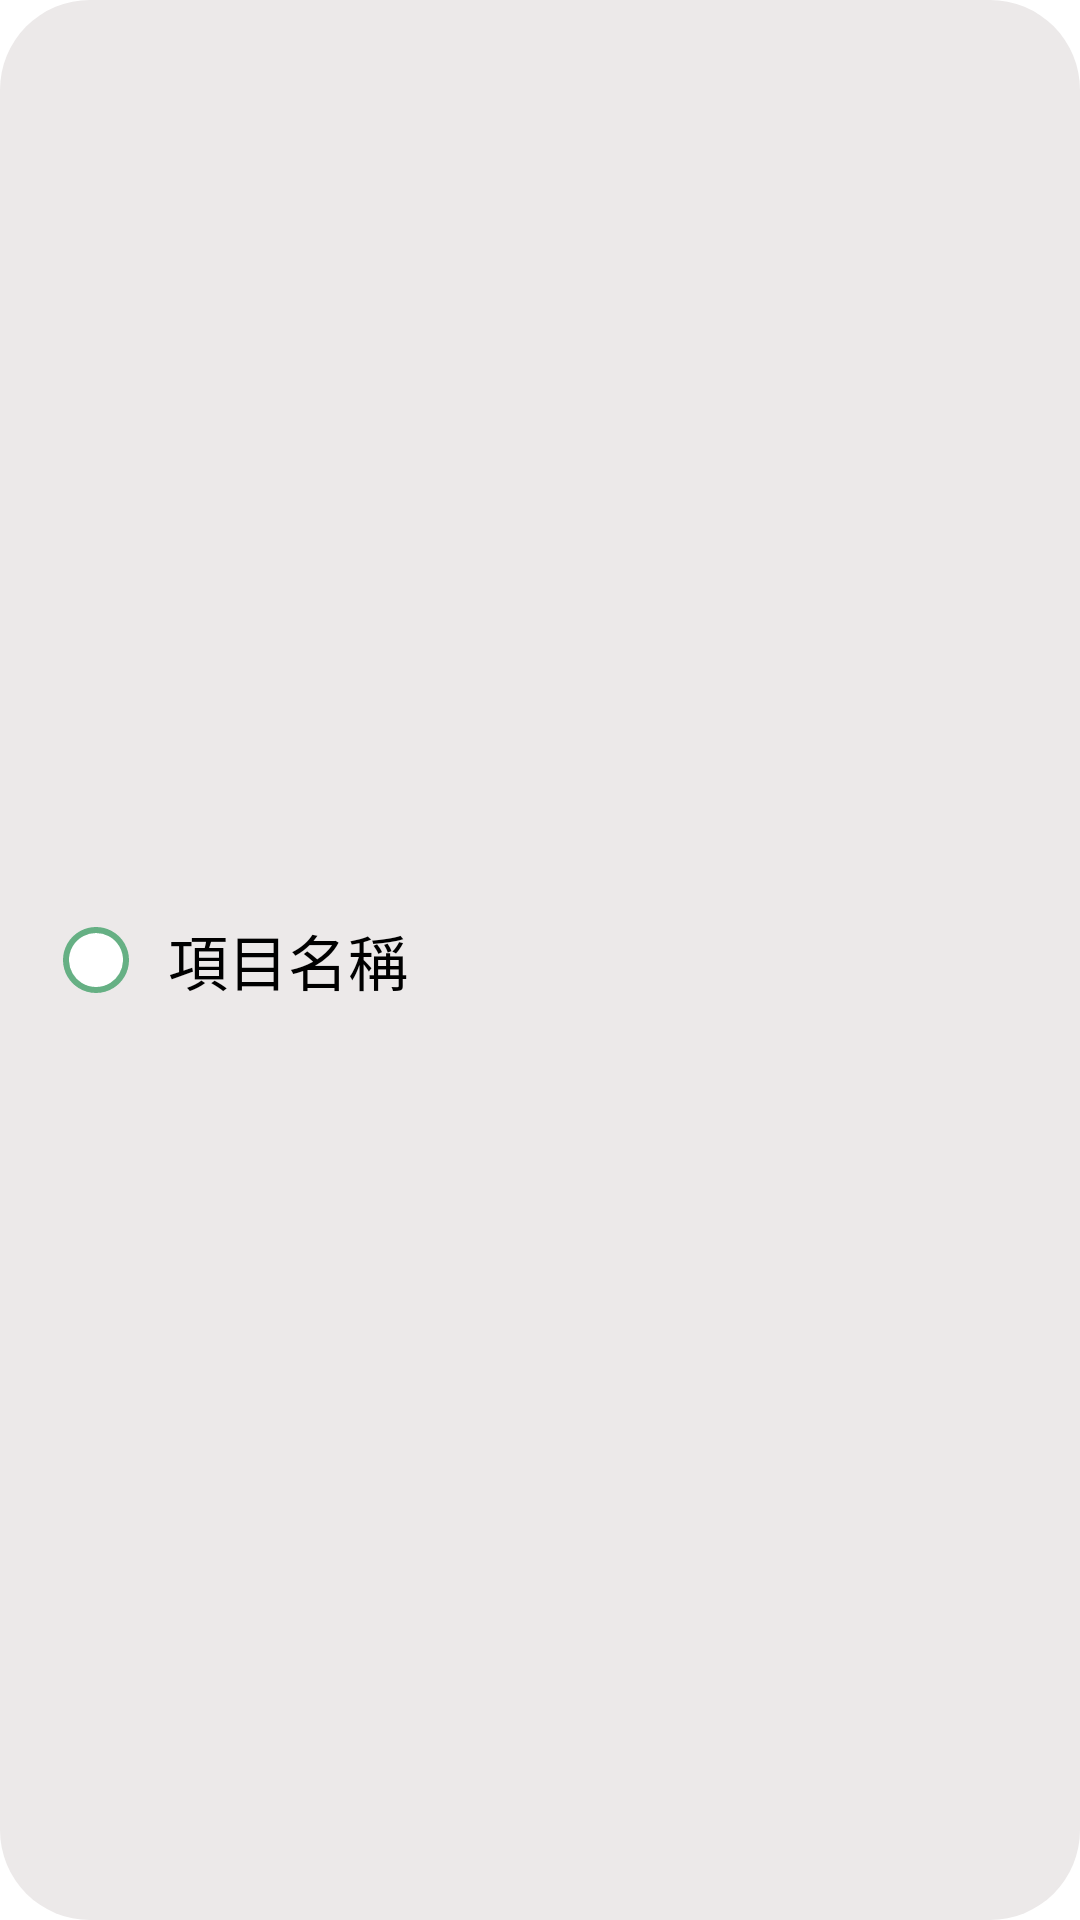

Screen size 1080px×1920px. Icon name, then its center in pixels as [x,y]:
circle unchecked: [96,960]
